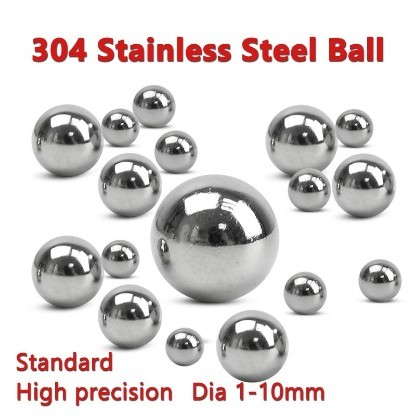ironball: (149, 173, 279, 303), (215, 309, 288, 382), (30, 235, 103, 308), (30, 103, 103, 176), (264, 104, 337, 175), (97, 283, 161, 348), (331, 152, 395, 217), (97, 152, 161, 217), (357, 258, 401, 302), (282, 270, 326, 314), (153, 130, 197, 173), (287, 167, 330, 211), (132, 84, 175, 127), (334, 108, 373, 147), (164, 327, 203, 366), (100, 239, 139, 278), (100, 107, 139, 146)
